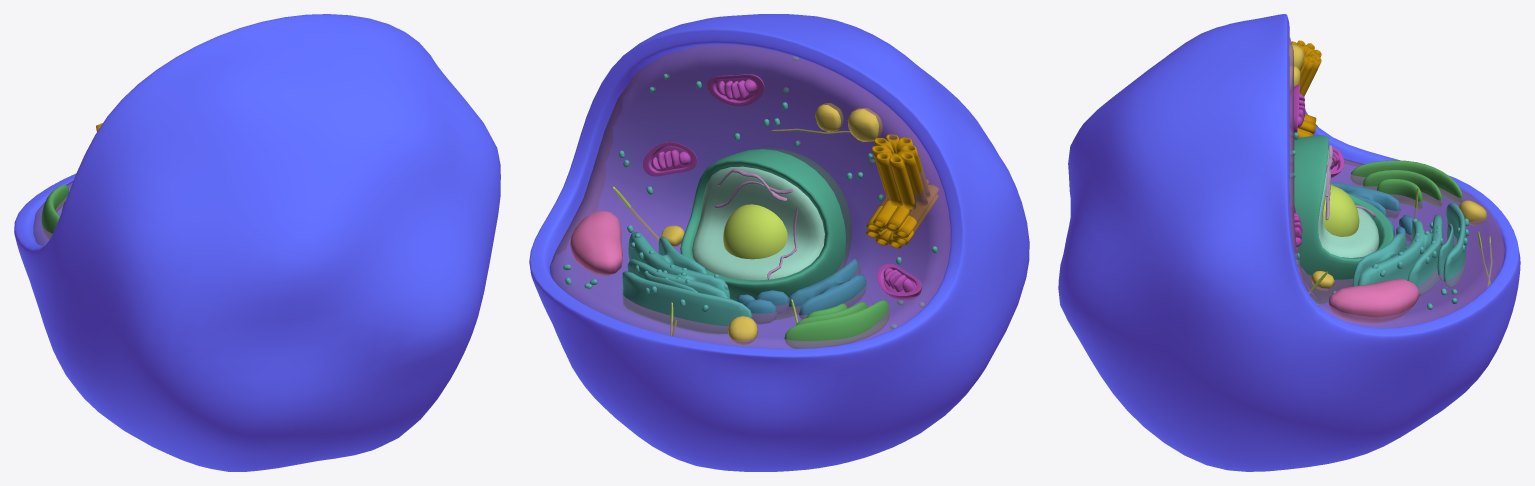
Rendered from AnimalCell-Colored-Quad.fbx.
The picture shows the model from 3 angles, left to right: view 1: azimuth 30°, elevation 25°; view 2: azimuth 150°, elevation 25°; view 3: azimuth 270°, elevation 25°; orthographic projection. The views are drawn at different scales.
Parts seen in each view (by area): view 1: Cell_Membrane, Golgi_Body, cytoplasm; view 2: Cell_Membrane, cytoplasm, inside_of_nucleus, Nucelar_Envelope, Rough_ER, Centrioles, Mitochondria, Smooth_ER, Golgi_Body, Nucleolus, Vacuole, Lysosomes (+3 smaller); view 3: Cell_Membrane, cytoplasm, Rough_ER, Nucelar_Envelope, Golgi_Body, Vacuole, inside_of_nucleus, Nucleolus, Smooth_ER, Lysosomes, Centrioles, Mitochondria.
Part boxes in pixels (x1,y1,x2,y2): Cell_Membrane: (14, 14, 500, 471); Golgi_Body: (41, 185, 68, 239); cytoplasm: (33, 180, 73, 246); Cell_Membrane: (529, 14, 1029, 471); cytoplasm: (549, 44, 950, 348); inside_of_nucleus: (692, 166, 824, 280); Nucelar_Envelope: (680, 148, 851, 319); Rough_ER: (622, 232, 752, 334); Centrioles: (866, 134, 938, 248); Mitochondria: (643, 74, 921, 300); Smooth_ER: (737, 259, 866, 324); Golgi_Body: (784, 300, 889, 348); Nucleolus: (723, 204, 787, 259); Vacuole: (570, 211, 622, 276); Lysosomes: (661, 103, 882, 345); Cell_Membrane: (1058, 14, 1520, 471); cytoplasm: (1289, 37, 1504, 328); Rough_ER: (1352, 203, 1468, 296); Nucelar_Envelope: (1294, 135, 1393, 303); Golgi_Body: (1350, 160, 1462, 208); Vacuole: (1328, 279, 1419, 323); inside_of_nucleus: (1318, 149, 1379, 257); Nucleolus: (1323, 185, 1359, 236); Smooth_ER: (1331, 182, 1413, 242); Lysosomes: (1289, 44, 1486, 290); Centrioles: (1291, 40, 1321, 138); Mitochondria: (1290, 84, 1343, 252).
Size of the model in its own units: 10.46 by 10.38 by 10.8.
